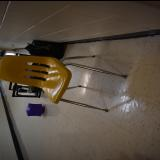cone: (103, 159, 107, 160)
cube: (25, 102, 45, 116)
